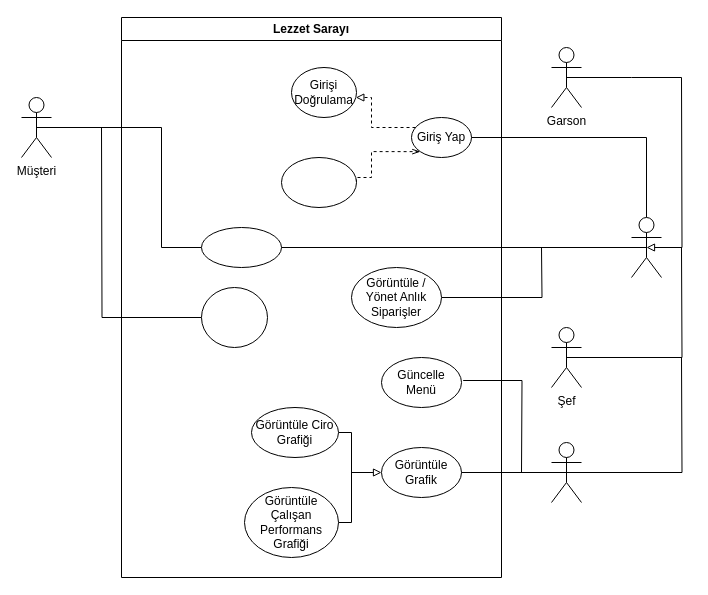
This 708x595 diagram has some shape labels left out. The shapes that lost their labels are listed below. From the top down, each one's centre as x and y in pixels, then its label:
point (318, 182): yönlendir hatalı giriş sayfası
point (241, 247): Sipariş Ver
point (646, 247): Personel
point (234, 317): Seyret Siparişi
point (566, 472): Müdür
